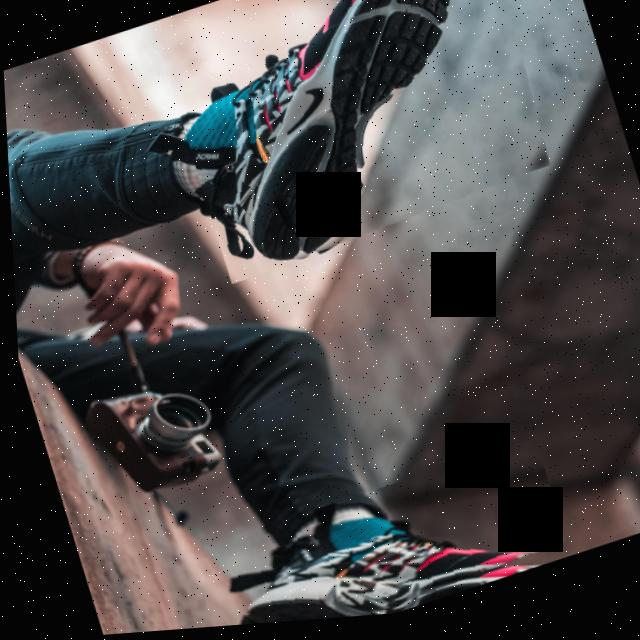shoe: (149, 0, 566, 291), (182, 443, 566, 631)
